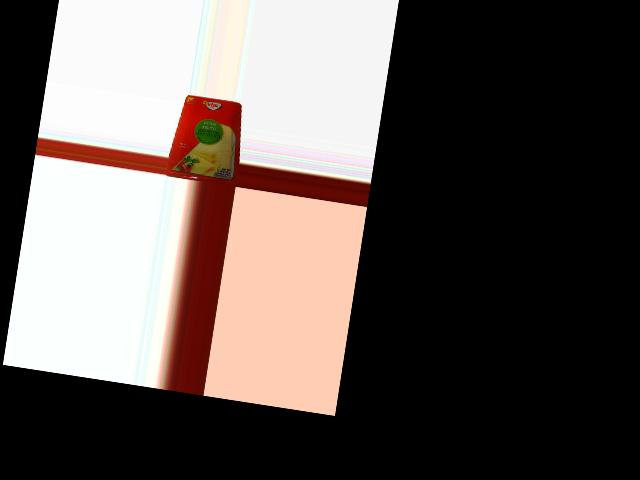cheese: (164, 93, 246, 186)
